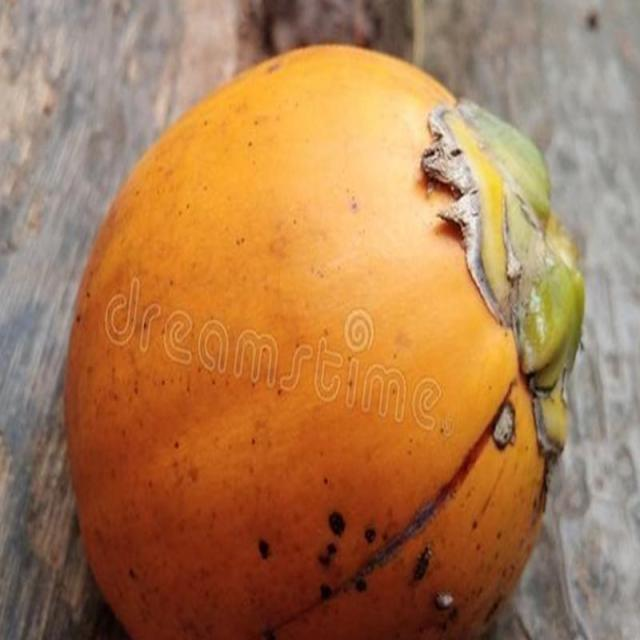good: (60, 45, 586, 639)
